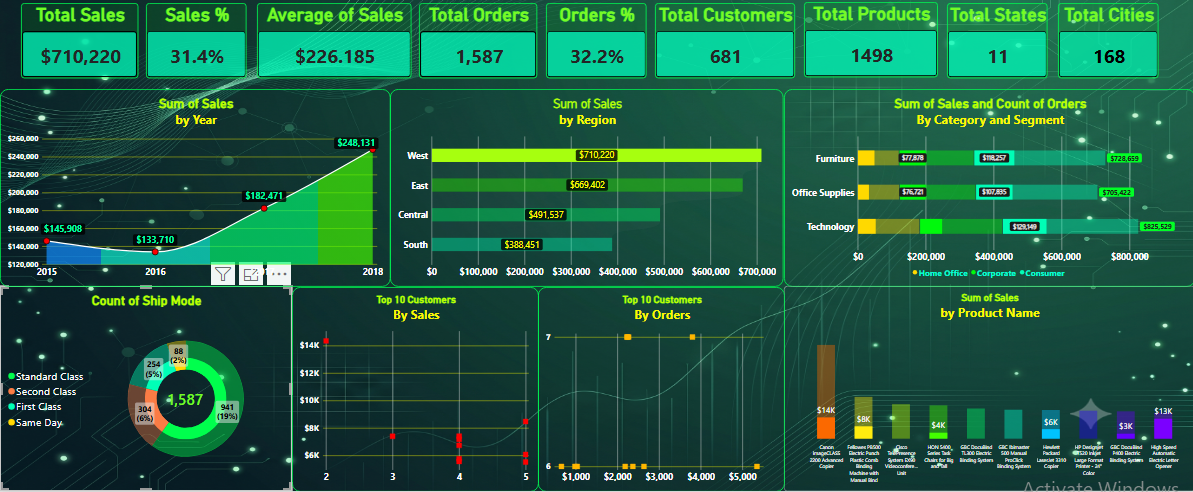

Layout of this report page (visuals, bound fields, positions):
{"tool":"powerbi","page":{"name":"Report","canvas":[2900,1200],"ordinal":0},"visuals":[{"type":"barChart","fields":{"Category":["sales_2.Region Hierarchy.Region","sales_2.Region Hierarchy.State","sales_2.Region Hierarchy.City"],"Y":["Sum(sales_2.Sales)"]},"box":[947.5,222.5,955,480],"z":0},{"type":"barChart","title":"Sum of Sales and Count of Orders","fields":{"Category":["sales_2.Category Hierarchy.Category","sales_2.Category Hierarchy.Sub-Category","sales_2.Category Hierarchy.Product Name"],"Series":["sales_2.Segment"],"Y":["Sum(sales_2.Sales)"]},"box":[1902.6,223.3,997.5,480],"z":1000},{"type":"cardVisual","title":"Total Sales","fields":{"Data":["Sum(sales_2.Sales)"]},"box":[50,15,284.9,182.8],"z":2000},{"type":"cardVisual","title":"Total Orders","fields":{"Data":["Count(sales_2.Order ID)"]},"box":[1017.5,15,287,182.8],"z":3000},{"type":"cardVisual","title":"Total Customers","fields":{"Data":["Count(sales_2.Customer Name)"]},"box":[1590,15,340,182.5],"z":4000},{"type":"cardVisual","title":"Total Cities","fields":{"Data":["Count(sales_2.City)"]},"box":[2567.5,15,244.5,182.8],"z":5000},{"type":"cardVisual","title":"Average of Sales","fields":{"Data":["Avg(sales_2.Sales)"]},"box":[622.5,15,375,182.5],"z":6000},{"type":"donutChart","title":"Count of Ship Mode","fields":{"Category":["sales_2.Ship Mode"],"Y":["Count(sales_2.Order ID)"]},"box":[0,702.5,707.5,497.5],"z":7000},{"type":"lineChart","fields":{"Category":["sales_2.Order Date.Variation.Date Hierarchy.Year","sales_2.Order Date.Variation.Date Hierarchy.Quarter","sales_2.Order Date.Variation.Date Hierarchy.Month","sales_2.Order Date.Variation.Date Hierarchy.Day"],"Y":["Sum(sales_2.Sales)"]},"box":[0,222.5,947.5,480],"z":8000},{"type":"scatterChart","title":"Top 10 Customers","fields":{"Category":["sales_2.Customer Name"],"X":["Count(sales_2.Order ID)"],"Y":["Sum(sales_2.Sales)"]},"box":[708.5,703,598.7,497.1],"z":9000},{"type":"clusteredColumnChart","fields":{"Category":["sales_2.Product Name"],"Y":["Sum(sales_2.Sales)"]},"box":[1902.5,702.5,997.5,497.5],"z":10000},{"type":"cardVisual","title":"Total States","fields":{"Data":["Count(sales_2.State)"]},"box":[2297.5,15,244.5,182.8],"z":11000},{"type":"cardVisual","title":"Total Products","fields":{"Data":["Count(sales_2.Product ID)"]},"box":[1950,12.5,325,182.5],"z":12000},{"type":"cardVisual","title":"Orders %","fields":{"Data":["sales_2.Orders Percentage"]},"box":[1325,15,244.5,182.8],"z":13000},{"type":"cardVisual","title":"Sales %","fields":{"Data":["sales_2.Sales Percentage"]},"box":[355,15,244.5,182.8],"z":14000},{"type":"scatterChart","title":"Top 10 Customers","fields":{"Category":["sales_2.Customer Name"],"X":["Sum(sales_2.Sales)"],"Y":["Count(sales_2.Order ID)"]},"box":[1304.5,703,598.7,497.1],"z":15000}]}

Visuals, with their boxes on the page's 2900x1200 design canvas (x1, y1, x2, y2). These are canvas units, not pixel positions in the 1193x492 screenshot, which may show the page scaled, cropped or inside an application window:
barChart - sales_2.Region Hierarchy.Region x sales_2.Region Hierarchy.State: box(948, 222, 1902, 702)
"Sum of Sales and Count of Orders" barChart: box(1903, 223, 2900, 703)
"Total Sales" cardVisual: box(50, 15, 335, 198)
"Total Orders" cardVisual: box(1018, 15, 1304, 198)
"Total Customers" cardVisual: box(1590, 15, 1930, 198)
"Total Cities" cardVisual: box(2568, 15, 2812, 198)
"Average of Sales" cardVisual: box(622, 15, 998, 198)
"Count of Ship Mode" donutChart: box(0, 702, 708, 1200)
lineChart - sales_2.Order Date.Variation.Date Hierarchy.Year x sales_2.Order Date.Variation.Date Hierarchy.Quarter: box(0, 222, 948, 702)
"Top 10 Customers" scatterChart: box(708, 703, 1307, 1200)
clusteredColumnChart - sales_2.Product Name x Sum(sales_2.Sales): box(1902, 702, 2900, 1200)
"Total States" cardVisual: box(2298, 15, 2542, 198)
"Total Products" cardVisual: box(1950, 12, 2275, 195)
"Orders %" cardVisual: box(1325, 15, 1570, 198)
"Sales %" cardVisual: box(355, 15, 600, 198)
"Top 10 Customers" scatterChart: box(1304, 703, 1903, 1200)
